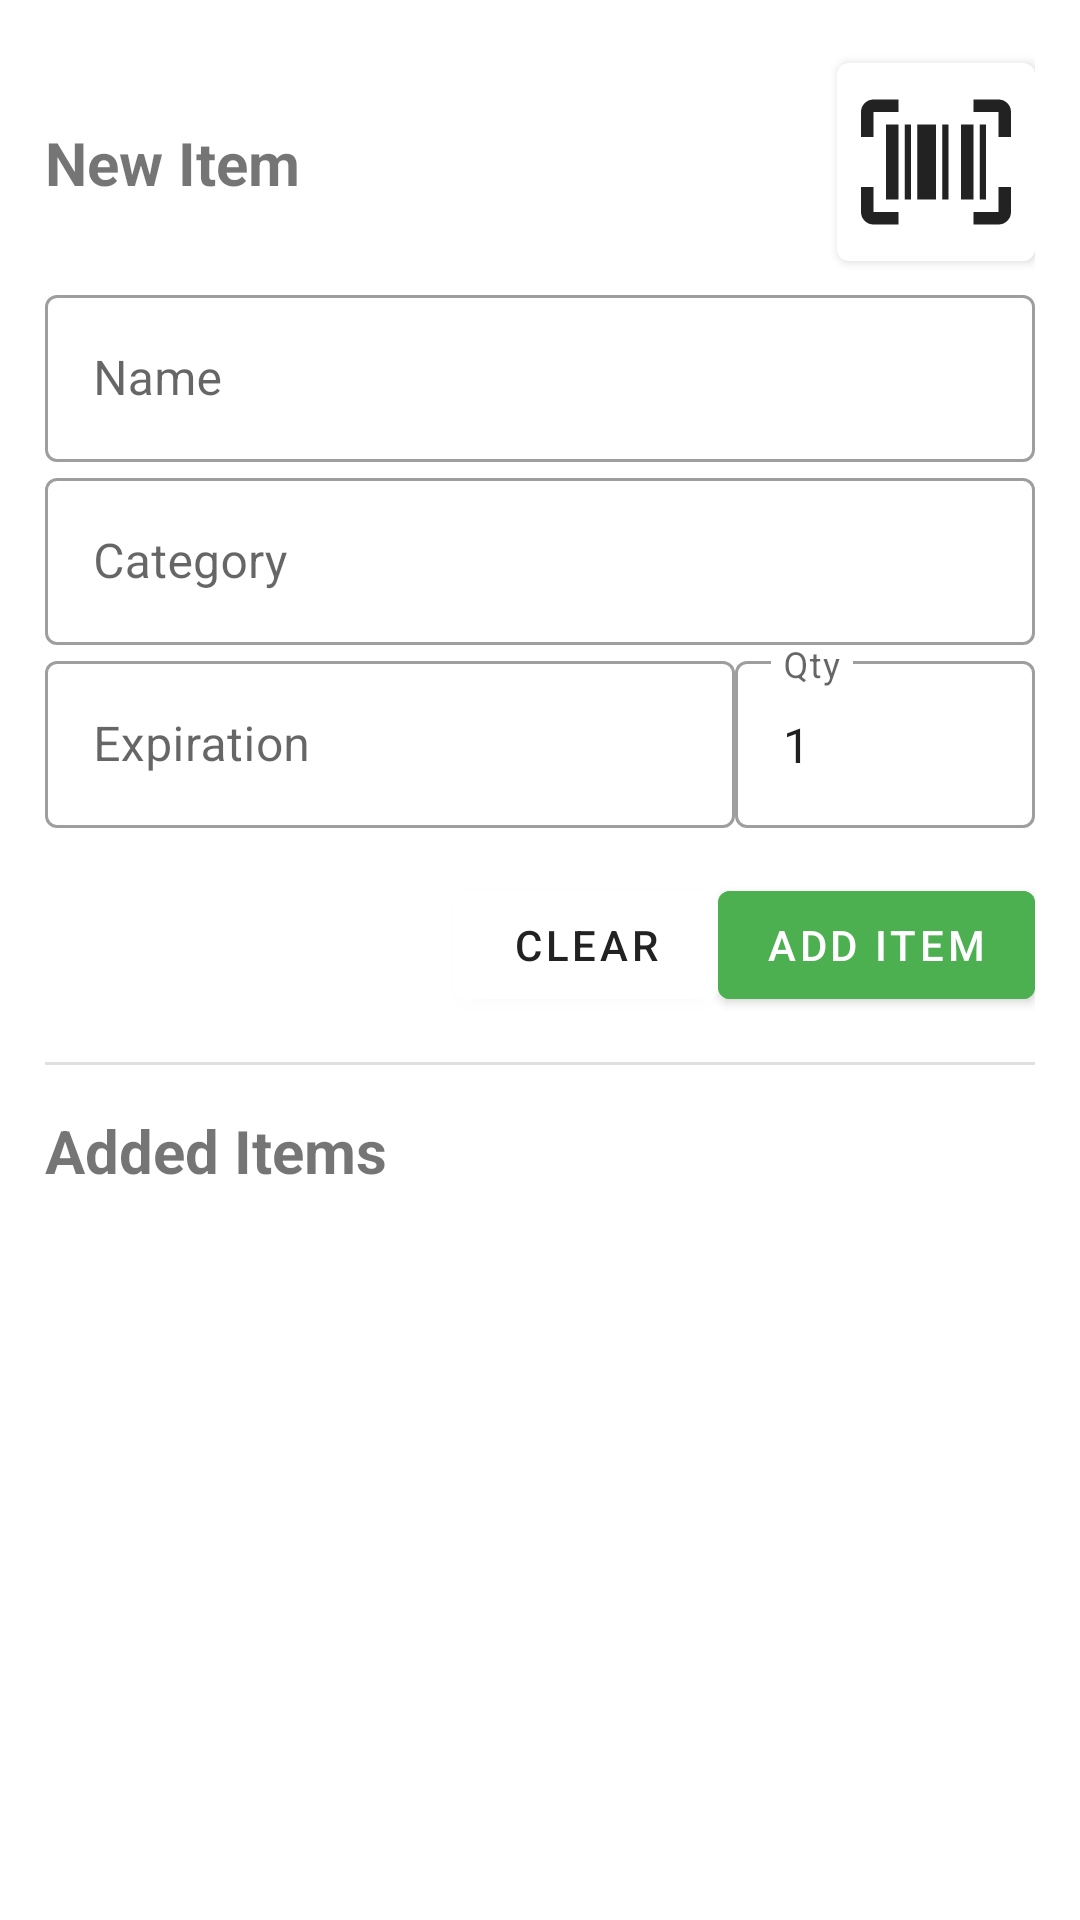

Locate icon controls on the screen. Image size 1080 x 1920, boxes as (x1, y1, x2, y2).
barcode scan: (861, 99, 1011, 225)
